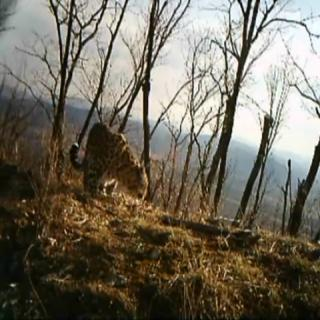Leopard: (77, 109, 167, 204)
